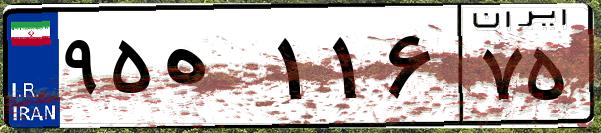1: (270, 28, 330, 110), (330, 28, 385, 110)
5: (525, 38, 570, 115), (110, 28, 158, 98)
6: (385, 28, 445, 110)
7: (475, 38, 525, 113)
9: (57, 26, 110, 100)
ه: (158, 20, 270, 120)
